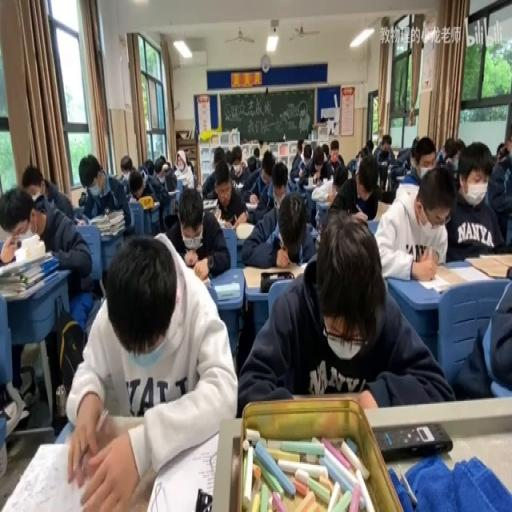calculator: (0, 438, 141, 512), (0, 243, 58, 299), (415, 263, 469, 293), (242, 265, 301, 290), (464, 252, 510, 278), (214, 280, 240, 300), (235, 222, 255, 242), (373, 199, 390, 221), (14, 228, 37, 244), (99, 222, 124, 235), (189, 270, 209, 284), (89, 212, 107, 225), (201, 196, 217, 208), (213, 205, 223, 222), (174, 178, 182, 196), (230, 180, 244, 190), (302, 181, 318, 189), (219, 219, 233, 228), (74, 216, 86, 225), (245, 201, 258, 209), (290, 176, 300, 186), (166, 189, 178, 196), (128, 198, 139, 204), (395, 174, 405, 180)
paper: (66, 230, 236, 506), (237, 213, 448, 414), (453, 268, 512, 398), (240, 179, 315, 266), (162, 184, 228, 280), (78, 154, 133, 239), (330, 153, 380, 222), (23, 164, 76, 226), (486, 134, 512, 244), (136, 159, 172, 229), (397, 135, 438, 189), (230, 144, 260, 199), (201, 145, 229, 199), (301, 144, 333, 184), (373, 132, 394, 189), (327, 139, 346, 172), (128, 172, 146, 202), (290, 141, 304, 175), (261, 152, 275, 181), (452, 138, 464, 162), (119, 155, 131, 176), (186, 156, 196, 180), (154, 155, 166, 174), (379, 188, 395, 202), (408, 154, 418, 176), (142, 160, 153, 176), (496, 141, 506, 158), (258, 138, 268, 154), (364, 139, 373, 155), (78, 192, 88, 206), (378, 161, 388, 175), (246, 155, 255, 169), (437, 148, 446, 162), (322, 142, 330, 156), (224, 148, 231, 163), (253, 145, 259, 161), (356, 148, 365, 158), (304, 151, 310, 162)
person: (374, 422, 451, 461), (194, 488, 211, 512)
